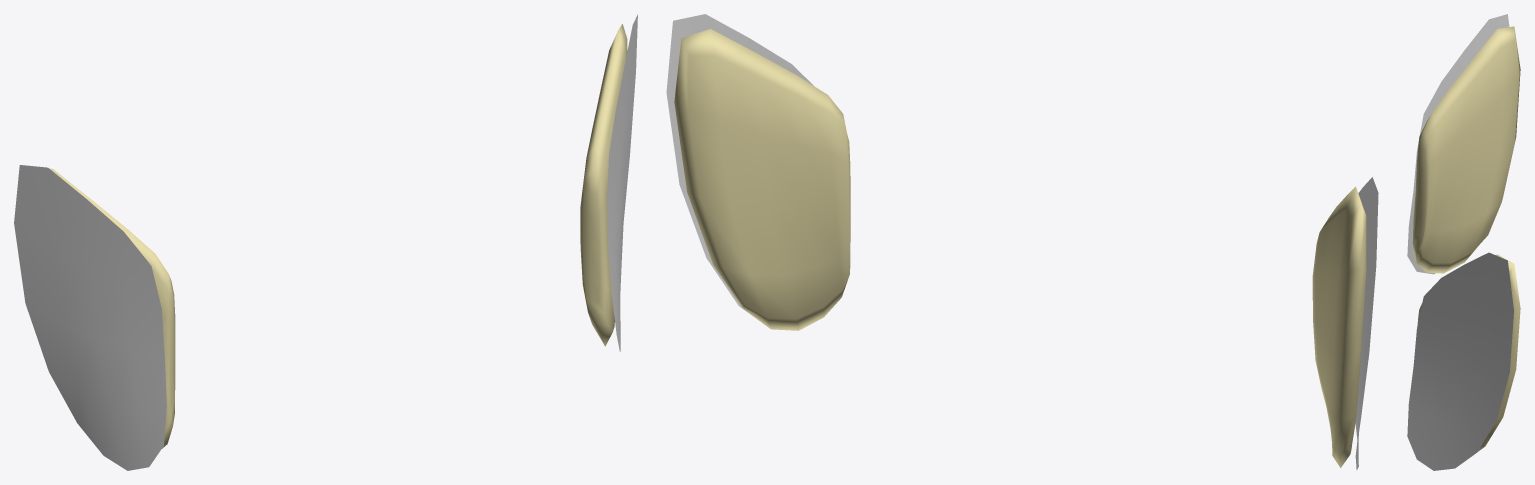
Rendered from ears-1.fbx.
3 renders of one model, left to right at view 1: azimuth 30°, elevation 25°; view 2: azimuth 150°, elevation 25°; view 3: azimuth 270°, elevation 25°, orthographic. The views are drawn at different scales.
Visible parts, largest first — view 1: Cube; view 2: Cube; view 3: Cube.
Part boxes in pixels (x1,y1,x2,y2): Cube: (14, 14, 637, 470); Cube: (666, 14, 1378, 470); Cube: (1407, 14, 1520, 470).
Size of the model in its own units: 55.55 by 24.73 by 10.72.
